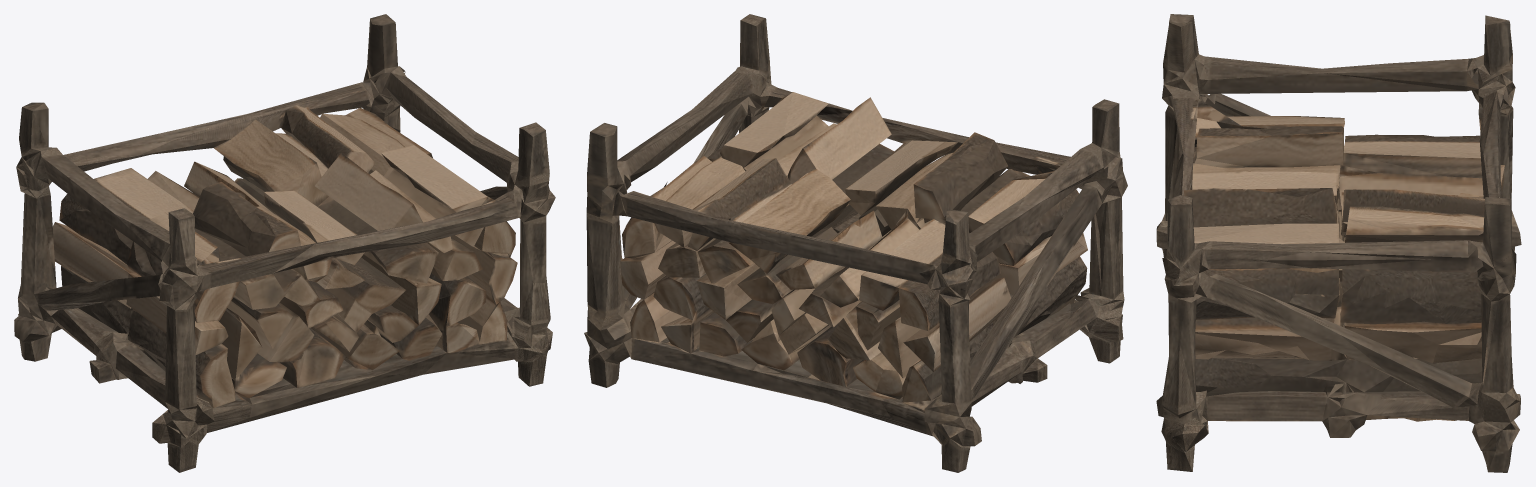
Rendered from firewood_rack.fbx.
3 views of the same model, side by side, from view 1: azimuth 30°, elevation 25°; view 2: azimuth 150°, elevation 25°; view 3: azimuth 270°, elevation 25° (orthographic). The views are drawn at different scales.
Visible parts, largest first — view 1: output_unwrapped; view 2: output_unwrapped; view 3: output_unwrapped.
Part boxes in pixels (x1=…): output_unwrapped: x1=14, y1=14, x2=555, y2=472; output_unwrapped: x1=584, y1=14, x2=1127, y2=472; output_unwrapped: x1=1156, y1=14, x2=1521, y2=472.
Size of the model in its own units: 189 by 117 by 143.
1 material, 1 textured.
